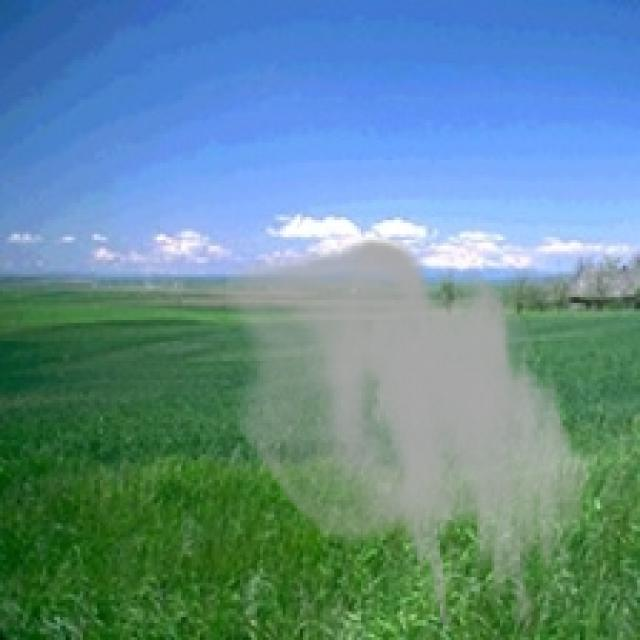smoke: (223, 237, 594, 626)
